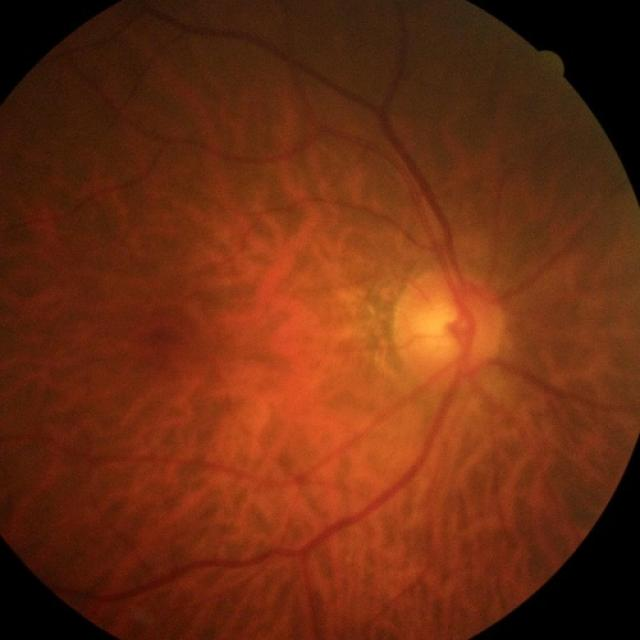OC: (418, 309, 466, 359)
OD: (392, 272, 504, 388)
